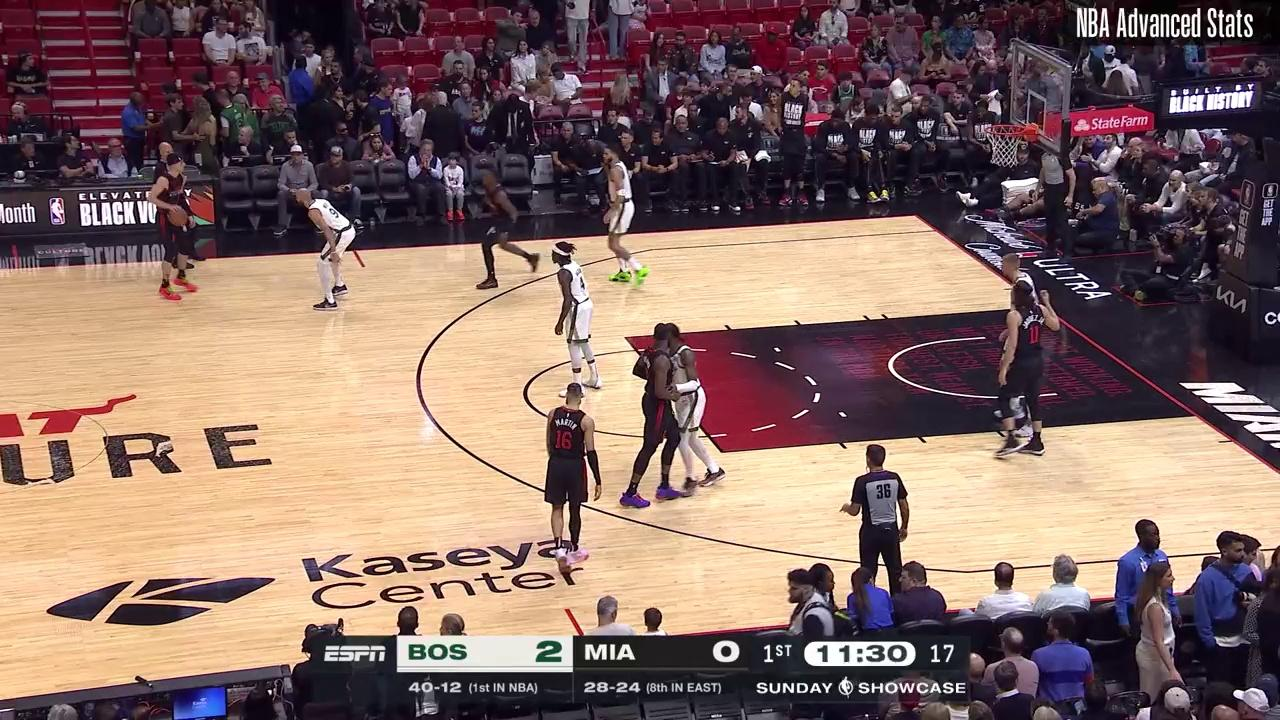3_sx: (928, 224, 941, 236)
b_sx: (908, 208, 922, 221)
free_adx: (715, 447, 728, 459)
free_asx: (618, 330, 637, 346)
free_bdx: (1188, 409, 1202, 421)
mid_dx: (562, 604, 572, 614)
mid_sx: (359, 261, 370, 271)
referee: (843, 443, 913, 594), (1035, 136, 1078, 260)
team: (665, 326, 730, 498), (550, 241, 607, 396), (294, 190, 357, 315), (1001, 252, 1040, 441), (601, 145, 651, 289)
team1: (541, 382, 603, 575), (625, 324, 680, 509), (1002, 284, 1058, 459), (475, 173, 542, 291), (152, 152, 200, 308)
timer: (812, 638, 908, 667)
